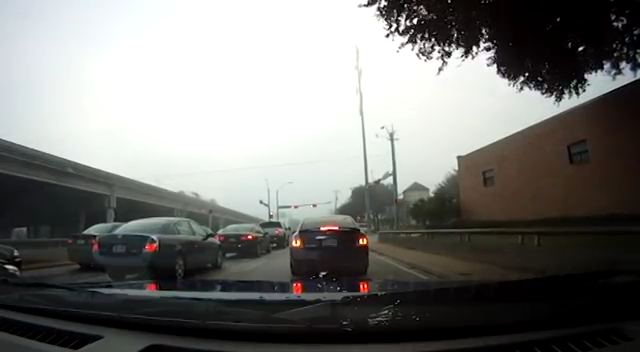car: (91, 217, 224, 278), (289, 214, 370, 280), (66, 222, 148, 269), (214, 223, 272, 255), (1, 240, 28, 279), (255, 219, 292, 247)
